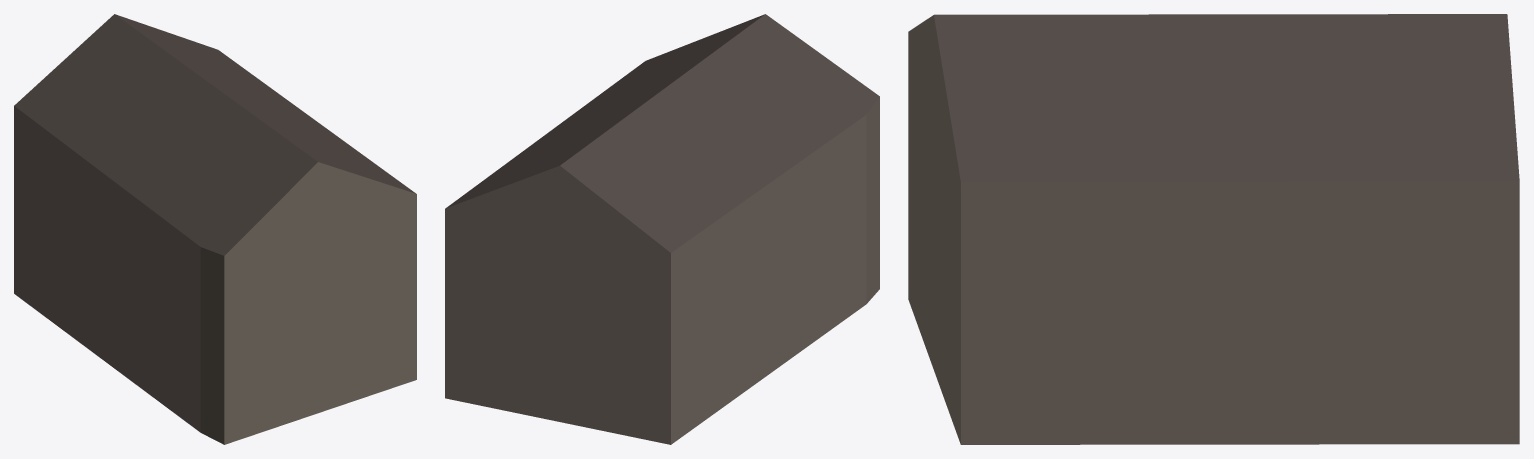
The picture shows the model from 3 angles, left to right: view 1: azimuth 30°, elevation 25°; view 2: azimuth 150°, elevation 25°; view 3: azimuth 270°, elevation 25°; orthographic projection. The views are drawn at different scales.
Visible parts, largest first — view 1: HP-w1515071155; view 2: HP-w1515071155; view 3: HP-w1515071155.
Boxes of the visible parts, box(x1,y1,x2,y2) form: HP-w1515071155: box(14, 14, 416, 444); HP-w1515071155: box(445, 14, 879, 444); HP-w1515071155: box(908, 14, 1519, 444).
Size of the model in its own units: 7.31 by 8.11 by 12.64.
